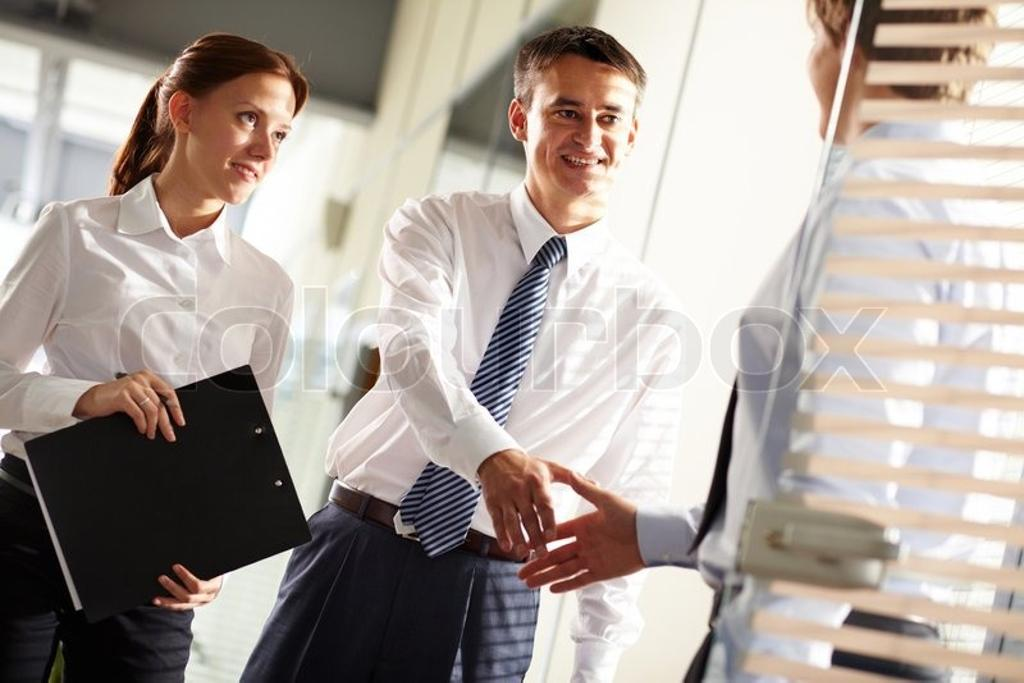face: (530, 62, 630, 196), (198, 76, 294, 202)
